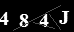4: (38, 13, 49, 28), (1, 10, 9, 26)
8: (18, 13, 29, 28)
J: (57, 10, 70, 25)
